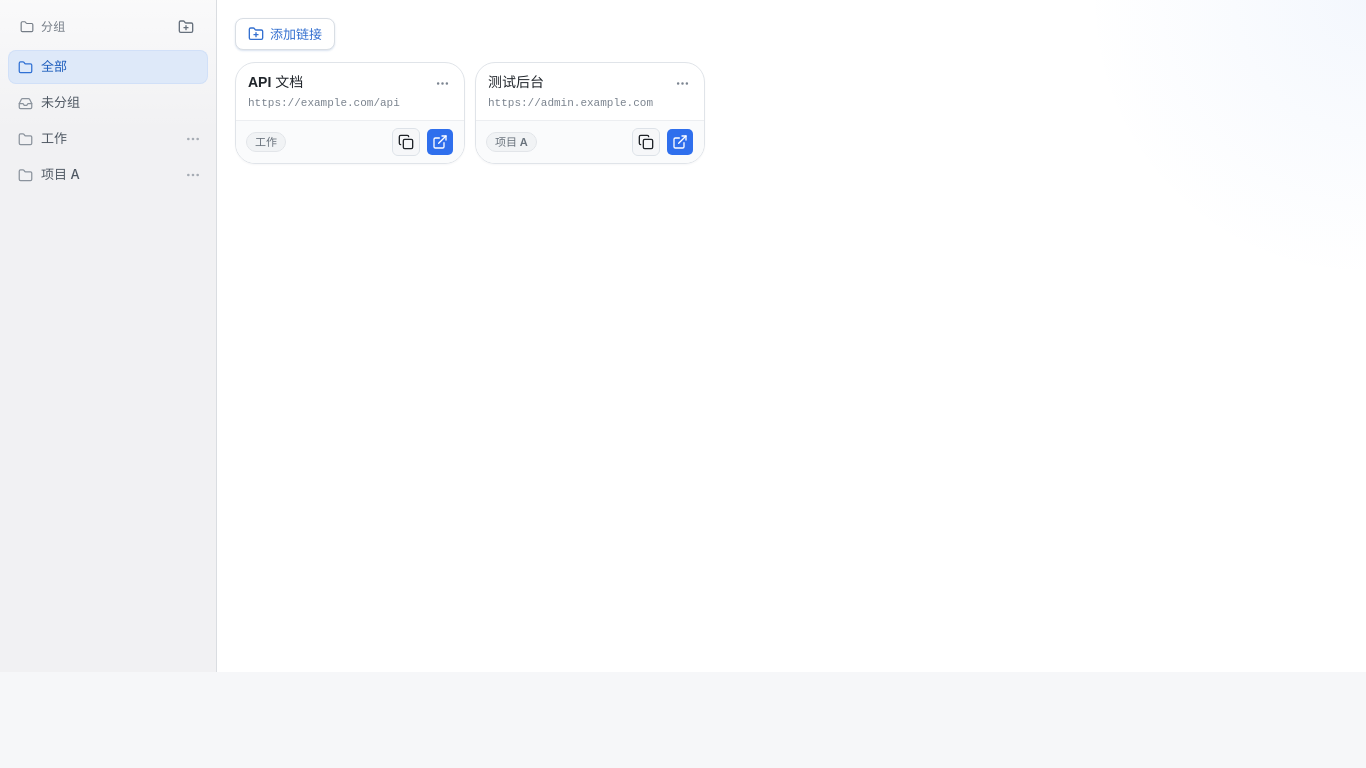
it: links static interactions › requires confirmation before deleting a link
The width and height of the screenshot is (1366, 768).
Click the button named "管理链接 测试后台" at (682,83), box [670,71,694,95]
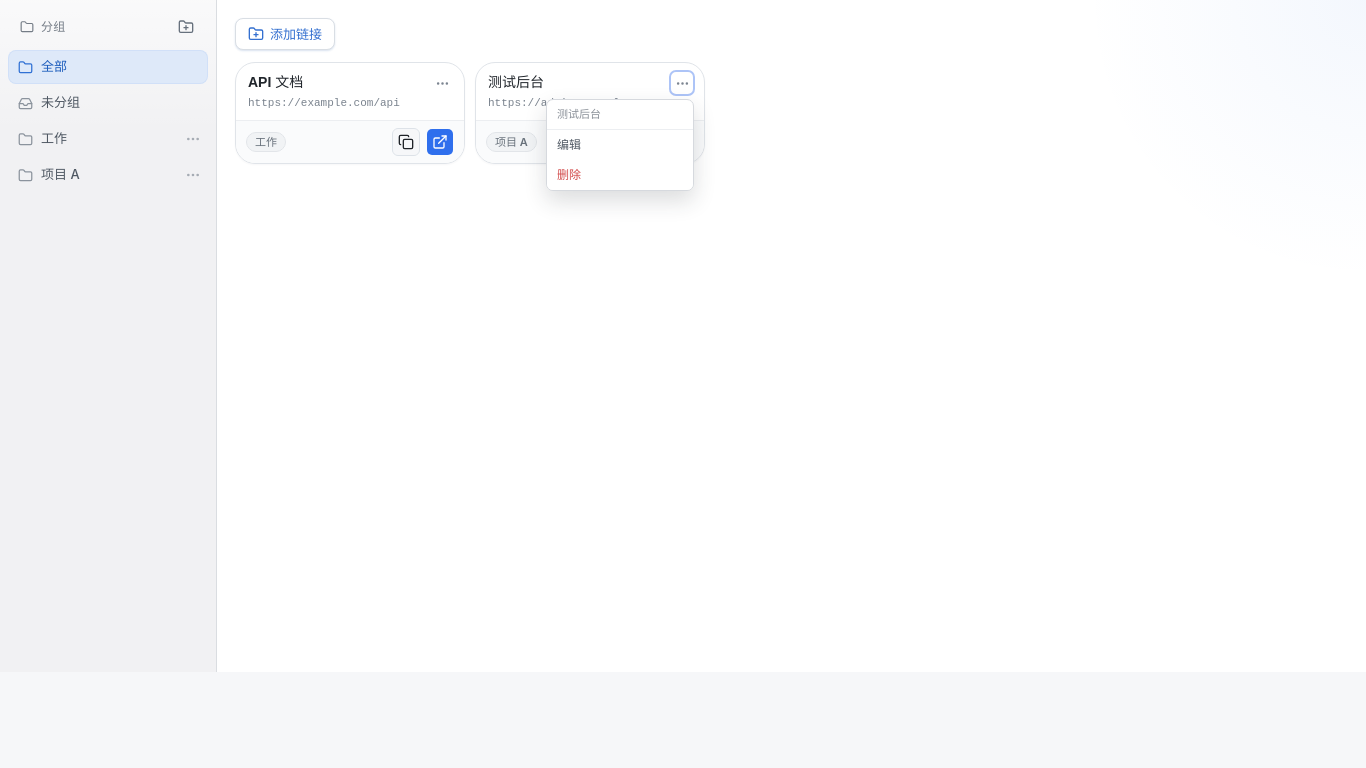
Click the button "删除" at (620,174), box [547,160,693,190]
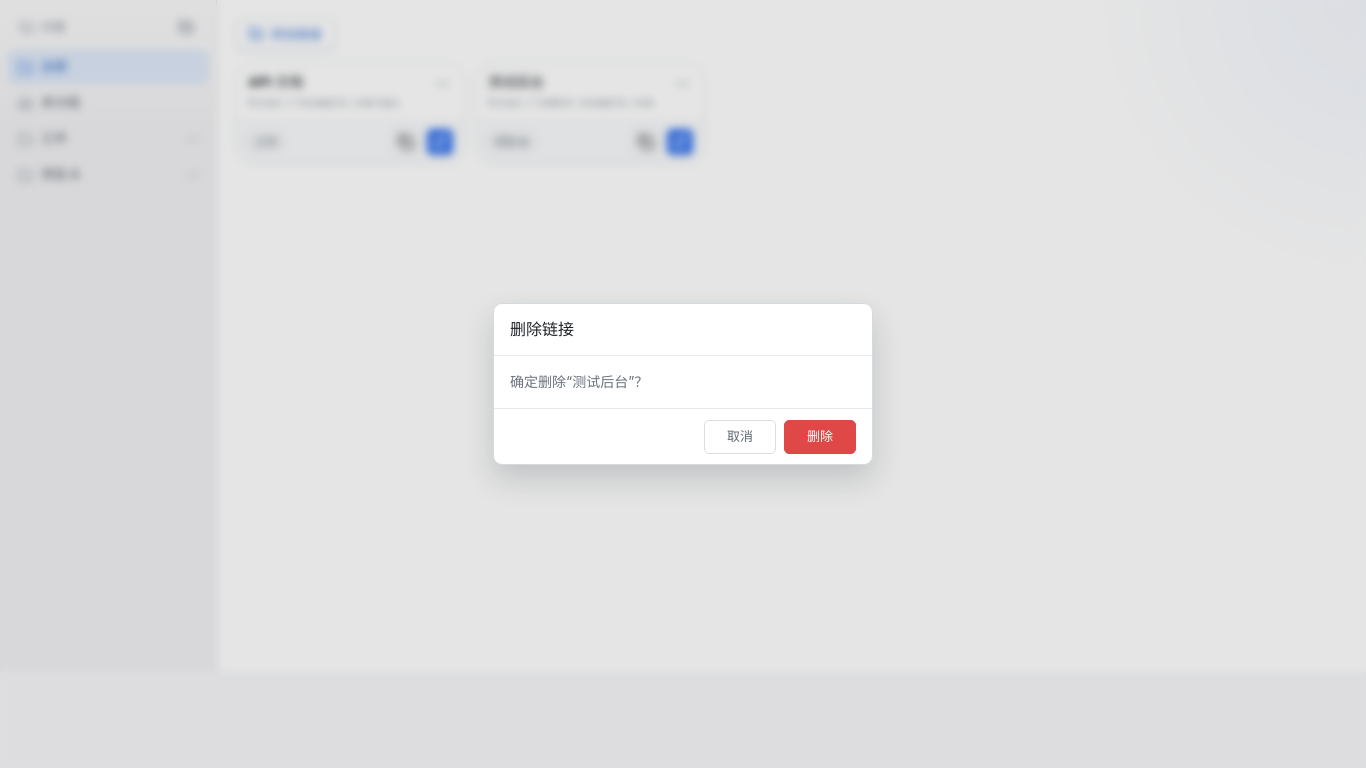
Expected: the dialog "删除链接" is shown, [493,303,873,465]
Expected: the text "确定删除“测试后台”？" is shown, [510,373,648,390]
Click the button "取消" at (740,436), box [704,420,776,454]
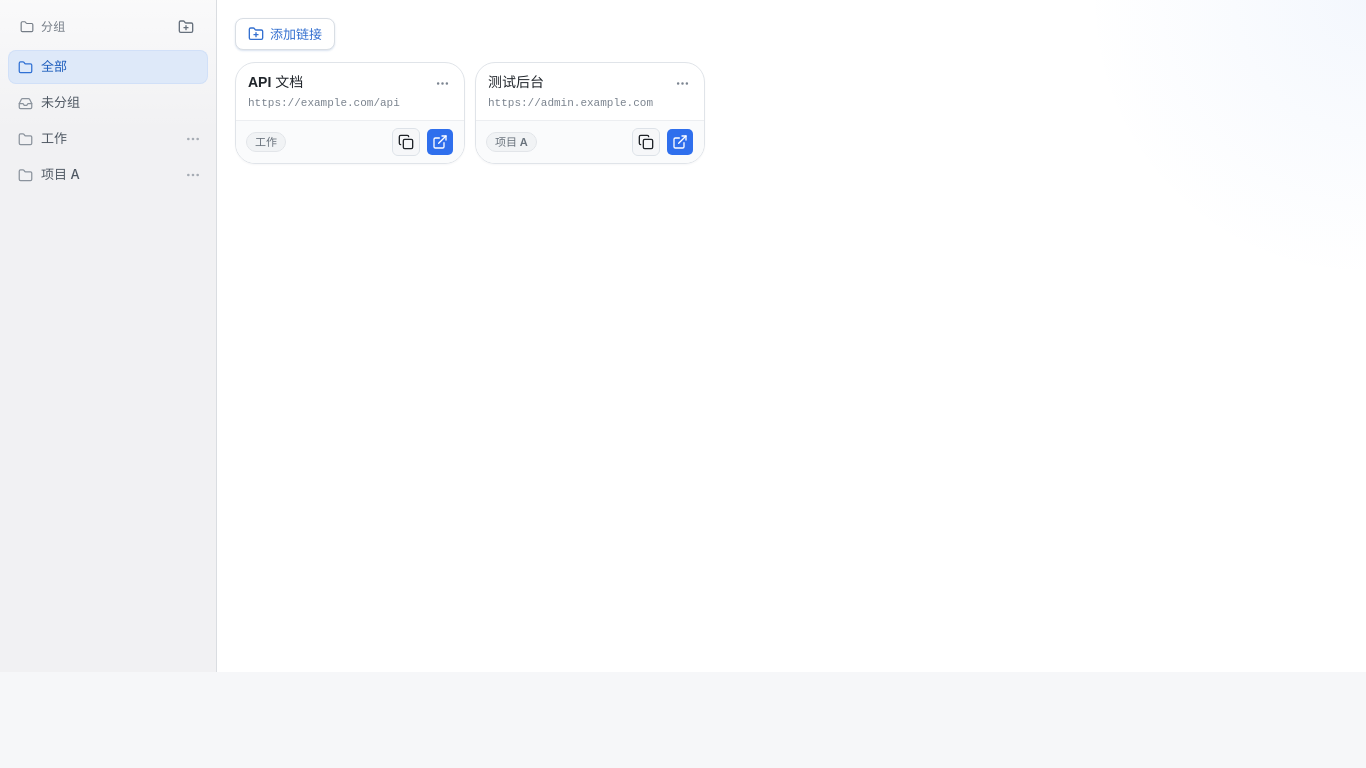
Expected: the heading "测试后台" is shown, [488,74,544,90]
Click the button named "管理链接 测试后台" at (682,83), box [670,71,694,95]
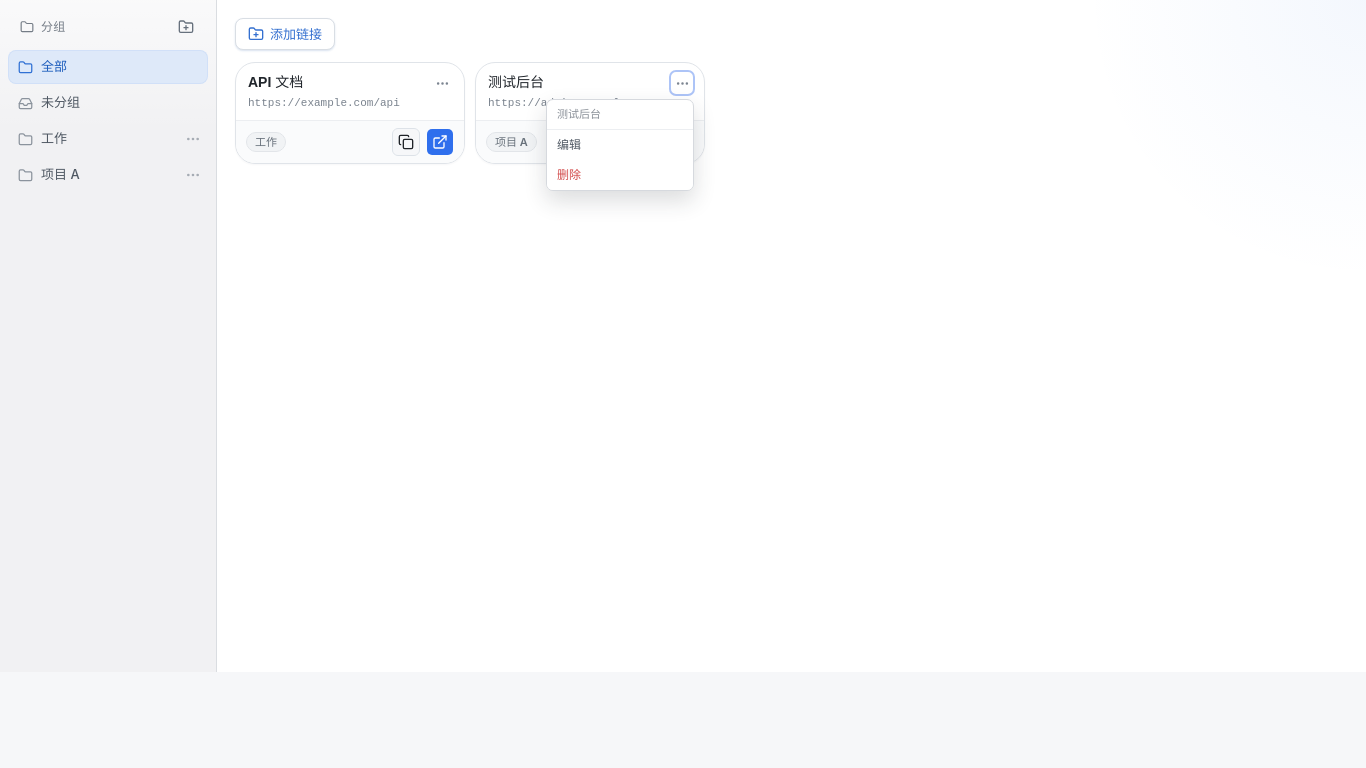
Click the button "删除" at (620,174), box [547,160,693,190]
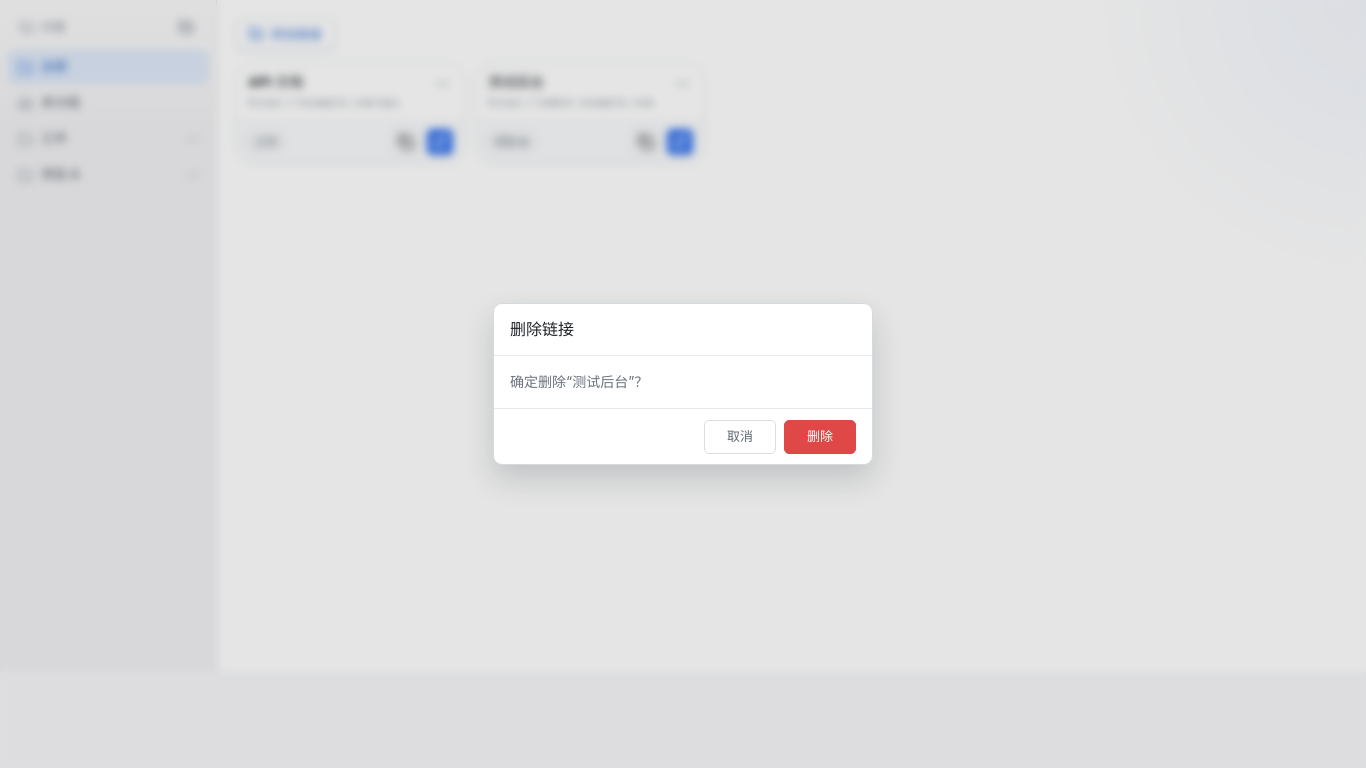
Click the button "删除" at (820,436), box [784,420,856,454]
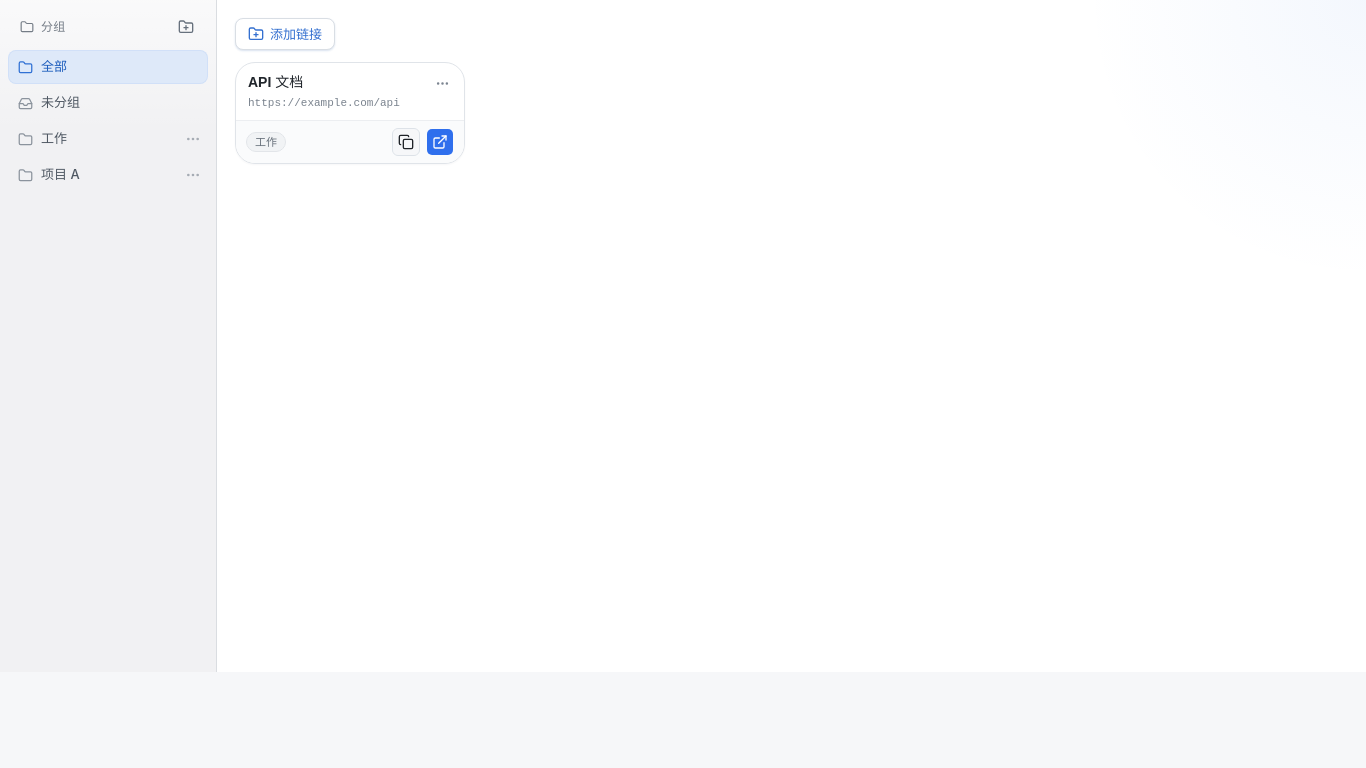
Expected: the heading "测试后台" is gone
